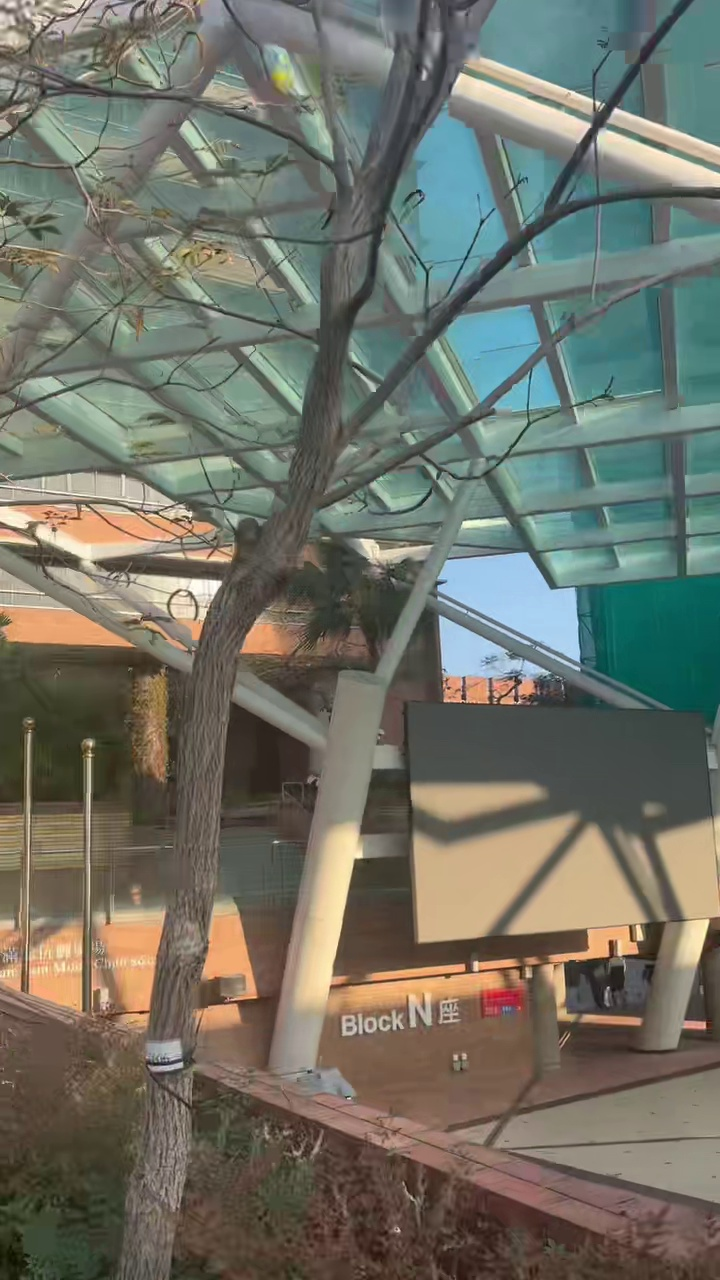Tabebuia chrysantha: (118, 0, 719, 1279)
